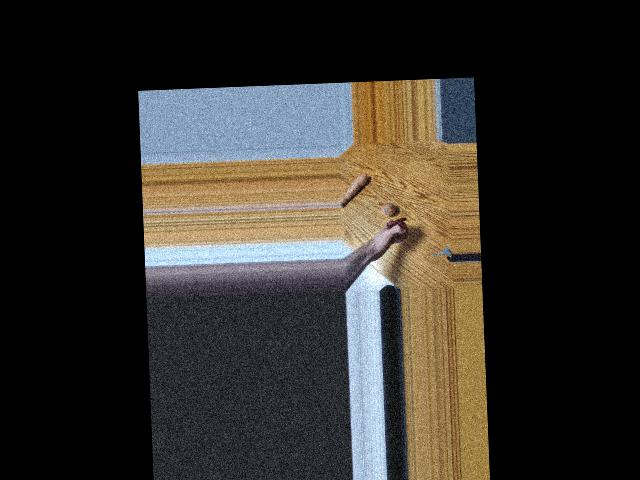onion: (381, 200, 396, 219)
